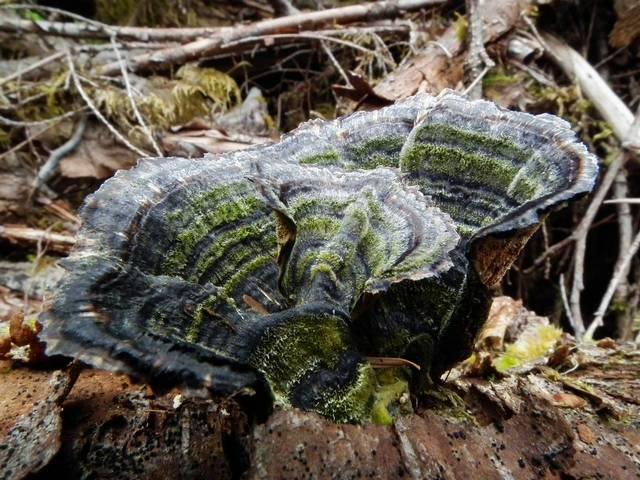poisonous_mushroom: (37, 87, 600, 425)
